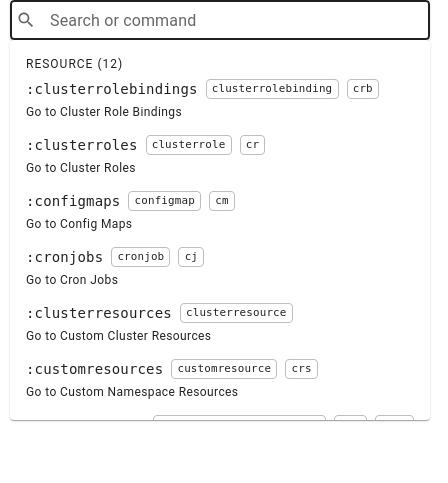
inline search, map options and namespace preference › pages each partition independently and deduplicates identities without corrupting offsets
Type "api-7f" into the dropdown with placeholder "Search or command" at point(232, 20), box [42, 6, 421, 34]
Wait 350 ms
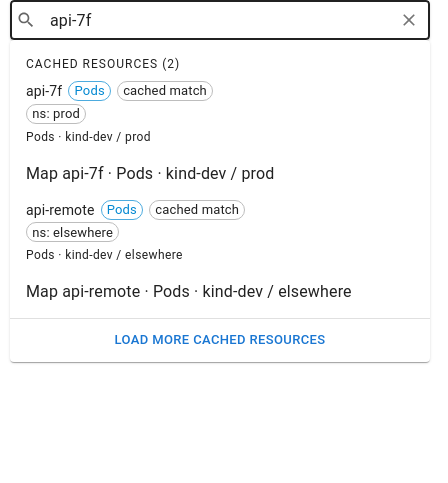
Click the button "Load more cached resources" at point(220, 341), box [16, 325, 424, 356]
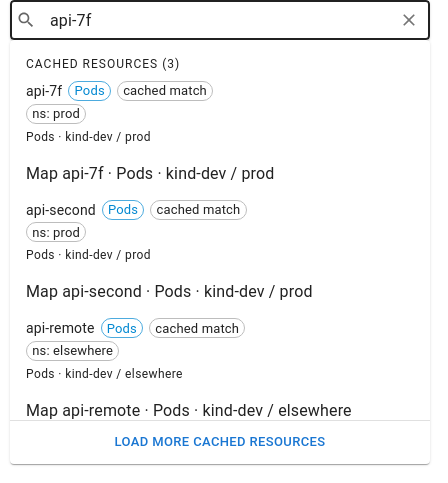
Check: the text "api-7f" is shown once, box [26, 81, 62, 101]
Click the button "Load more cached resources" at point(220, 442), box [16, 427, 424, 458]
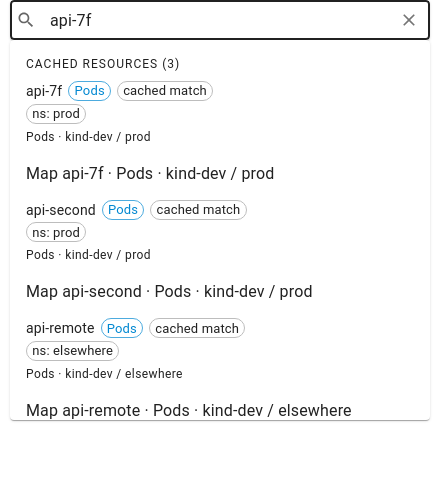
Check: the text "api-remote" is shown once, box [26, 318, 95, 338]
Check: the button "Load more cached resources" is gone
